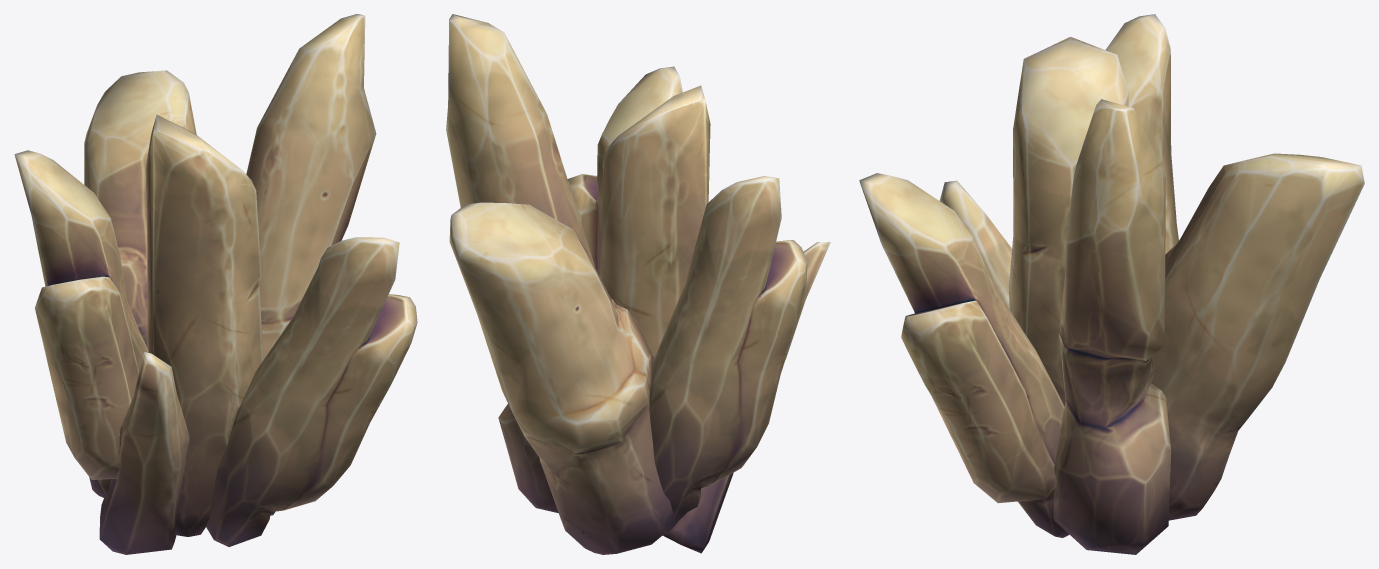
File: SM_Gem_Moonstone_011.fbx
3 views of the same model, side by side, from view 1: azimuth 30°, elevation 25°; view 2: azimuth 150°, elevation 25°; view 3: azimuth 270°, elevation 25° (orthographic). The views are drawn at different scales.
Visible parts, largest first — view 1: SM_Gem_Moonstone_011; view 2: SM_Gem_Moonstone_011; view 3: SM_Gem_Moonstone_011.
Part boxes in pixels (bbox=[...]): SM_Gem_Moonstone_011: bbox=[14, 14, 417, 554]; SM_Gem_Moonstone_011: bbox=[446, 14, 830, 554]; SM_Gem_Moonstone_011: bbox=[859, 14, 1364, 554].
Size of the model in its own units: 66.8 by 90.03 by 81.39.
